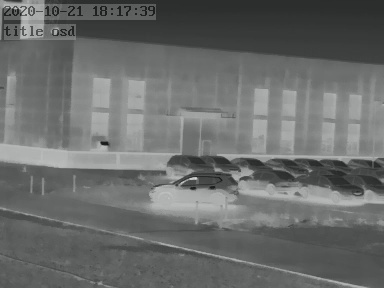vehicle: (151, 173, 238, 206), (299, 174, 362, 201), (236, 171, 300, 196), (164, 154, 210, 177), (202, 155, 242, 177), (357, 174, 384, 202), (233, 155, 270, 171), (263, 155, 300, 171), (347, 156, 379, 170), (296, 156, 324, 169), (317, 157, 346, 169)
